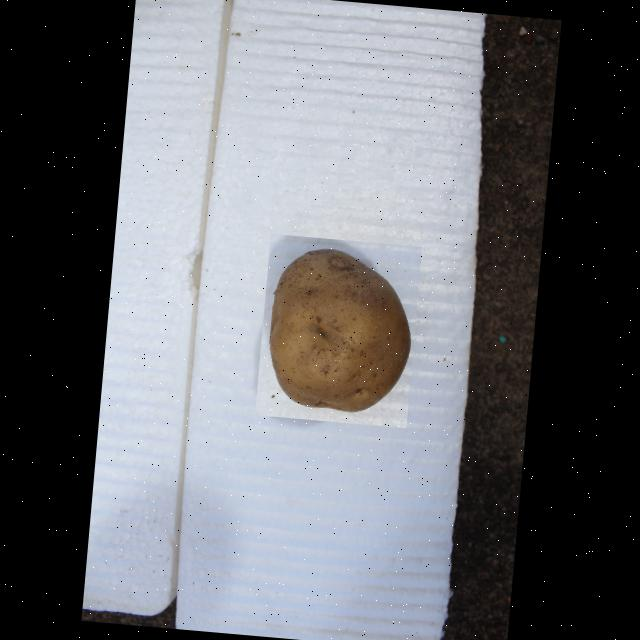Damaged potato: (254, 233, 421, 428)
